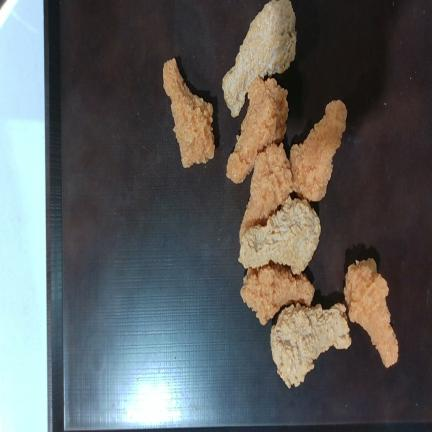chicken: (222, 0, 296, 116), (270, 303, 351, 388), (227, 77, 289, 182), (238, 197, 320, 274), (344, 258, 398, 367), (290, 100, 347, 200), (163, 58, 215, 167), (239, 144, 292, 240), (240, 264, 314, 325)
